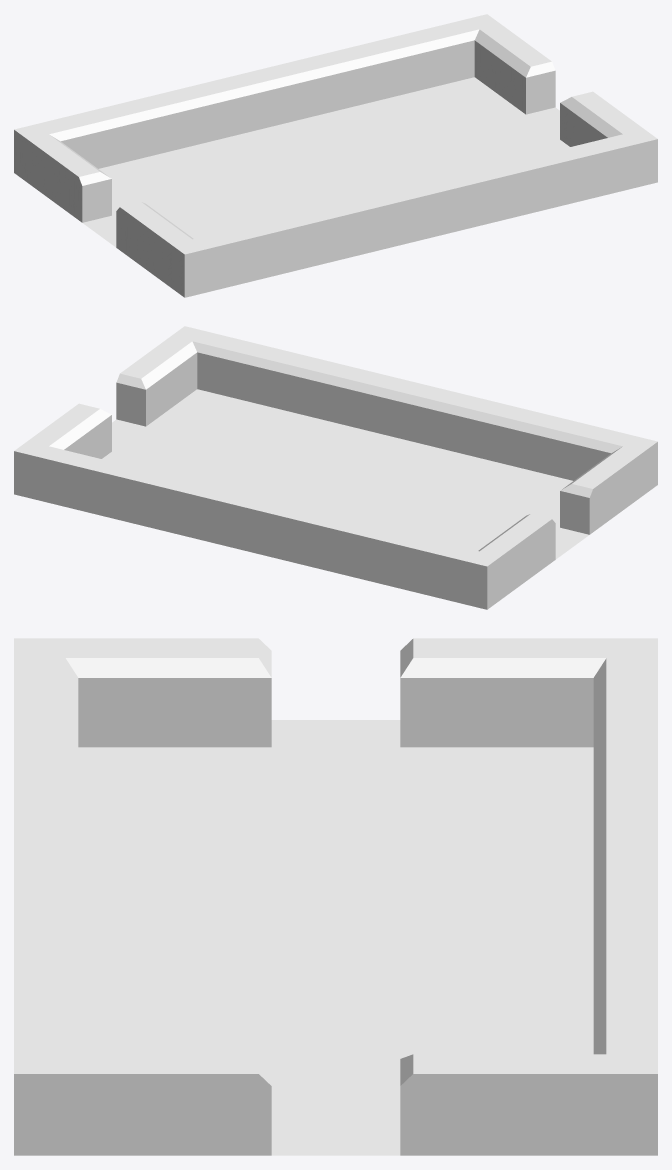
Rendered from Room04.obj.
3 views of the same model, one above another, from view 1: azimuth 30°, elevation 25°; view 2: azimuth 150°, elevation 25°; view 3: azimuth 270°, elevation 25° (orthographic). The views are drawn at different scales.
Parts seen in each view (by area): view 1: room0x4; view 2: room0x4; view 3: room0x4.
Boxes of the visible parts, left/top/right/bottom form: room0x4: left=14, top=14, right=657, bottom=297; room0x4: left=14, top=326, right=657, bottom=609; room0x4: left=14, top=638, right=657, bottom=1155.
Size of what is drawn, in the model's own units: 80 by 7 by 50.
